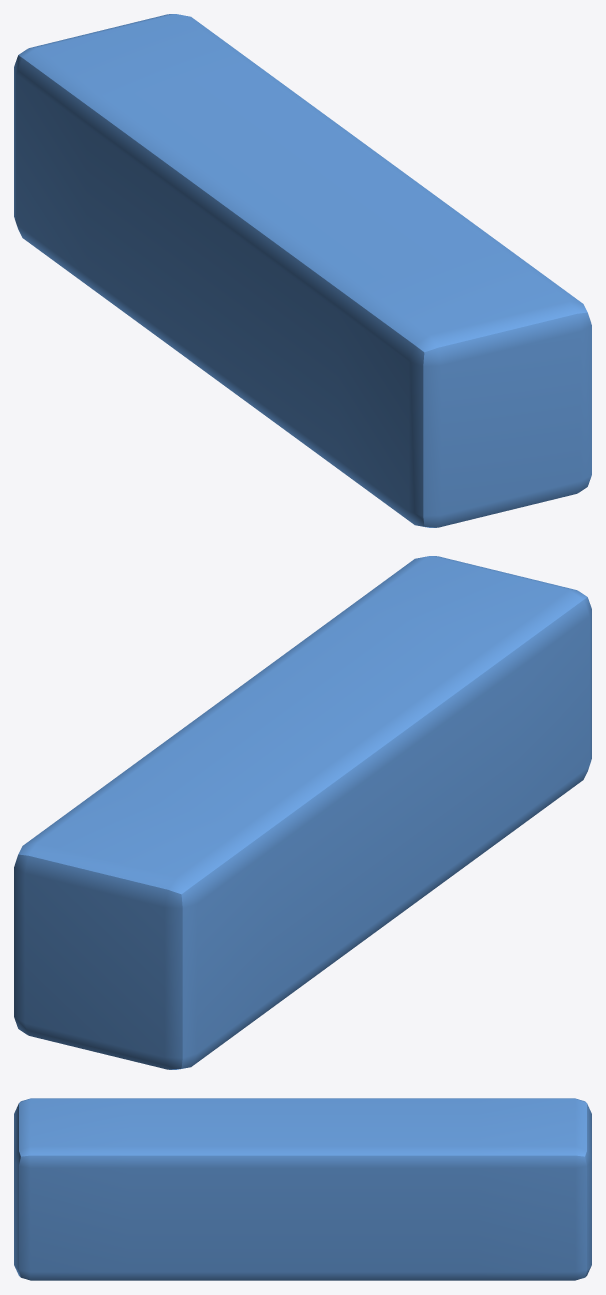
3 renders of one model, top to bottom at view 1: azimuth 30°, elevation 25°; view 2: azimuth 150°, elevation 25°; view 3: azimuth 270°, elevation 25°, orthographic. The views are drawn at different scales.
Parts seen in each view (by area): view 1: pasted__pCube2; view 2: pasted__pCube2; view 3: pasted__pCube2.
Boxes of the visible parts, box(x1,y1,x2,y2) form: pasted__pCube2: box(14, 14, 591, 527); pasted__pCube2: box(14, 556, 591, 1069); pasted__pCube2: box(14, 1098, 591, 1280).
Bounding box in the file's own units: 1 × 1.02 × 3.99.
